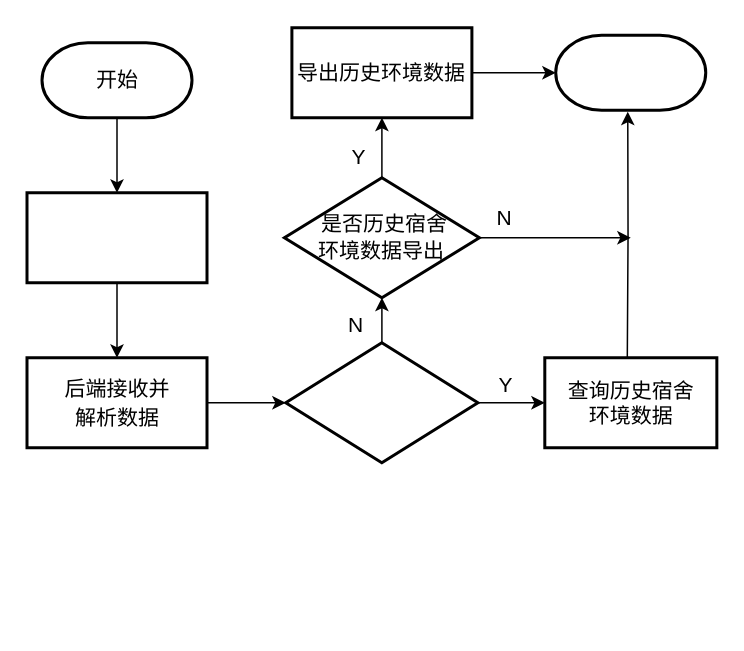
This 744x651 diagram has some shape labels left out. Each missing label, with the centre of its shape:
"云平台转发 设备数据" goes at point 116,237.
"是否 历史宿舍 环境数据查询" goes at point 381,402.
"结束" goes at point 630,72.
